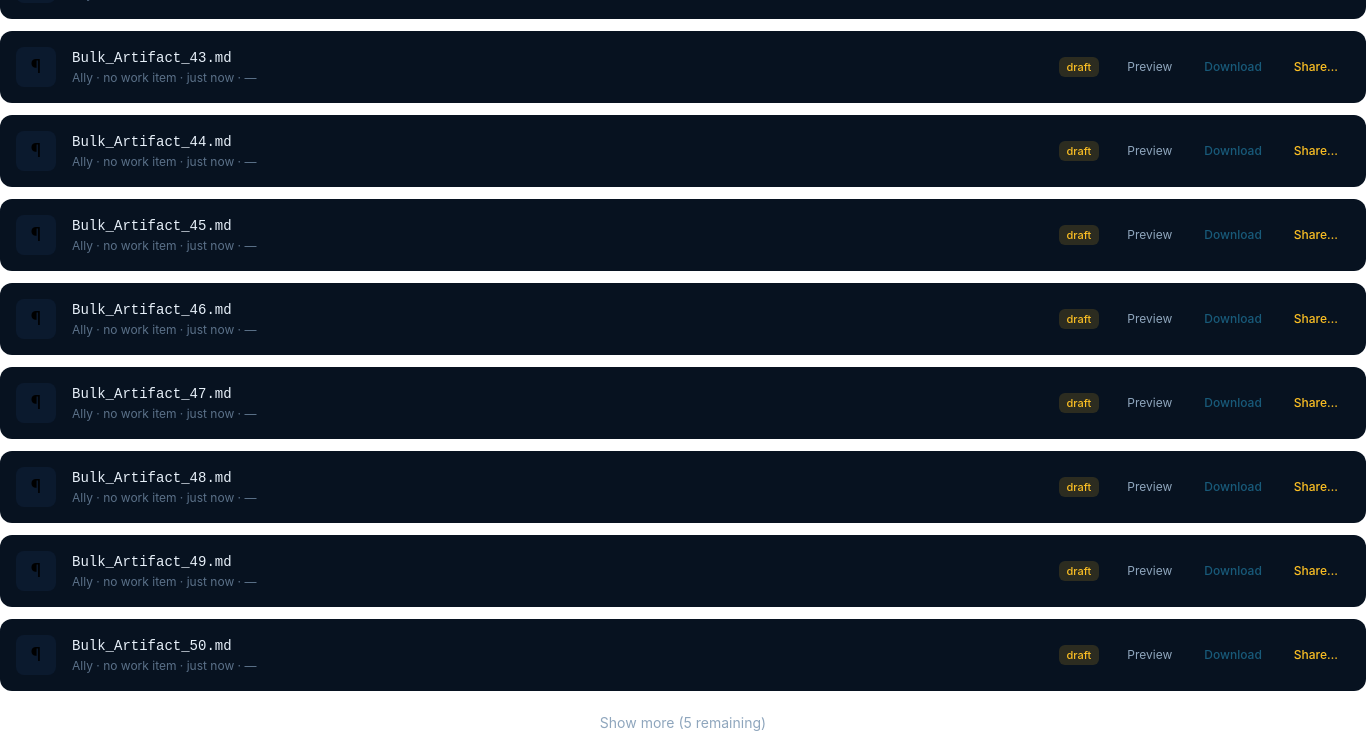
it: §15 large lists paginate › Artifacts caps at 50 with Show more
(page scrolled)
Expected: the text "Bulk_Artifact_50.md" is shown, [72, 638, 232, 654]
Expected: the text "Bulk_Artifact_51.md" is not shown
Click the button "Show more (5 remaining)".
click(683, 723)  # box [0, 703, 1365, 742]
(page scrolled)
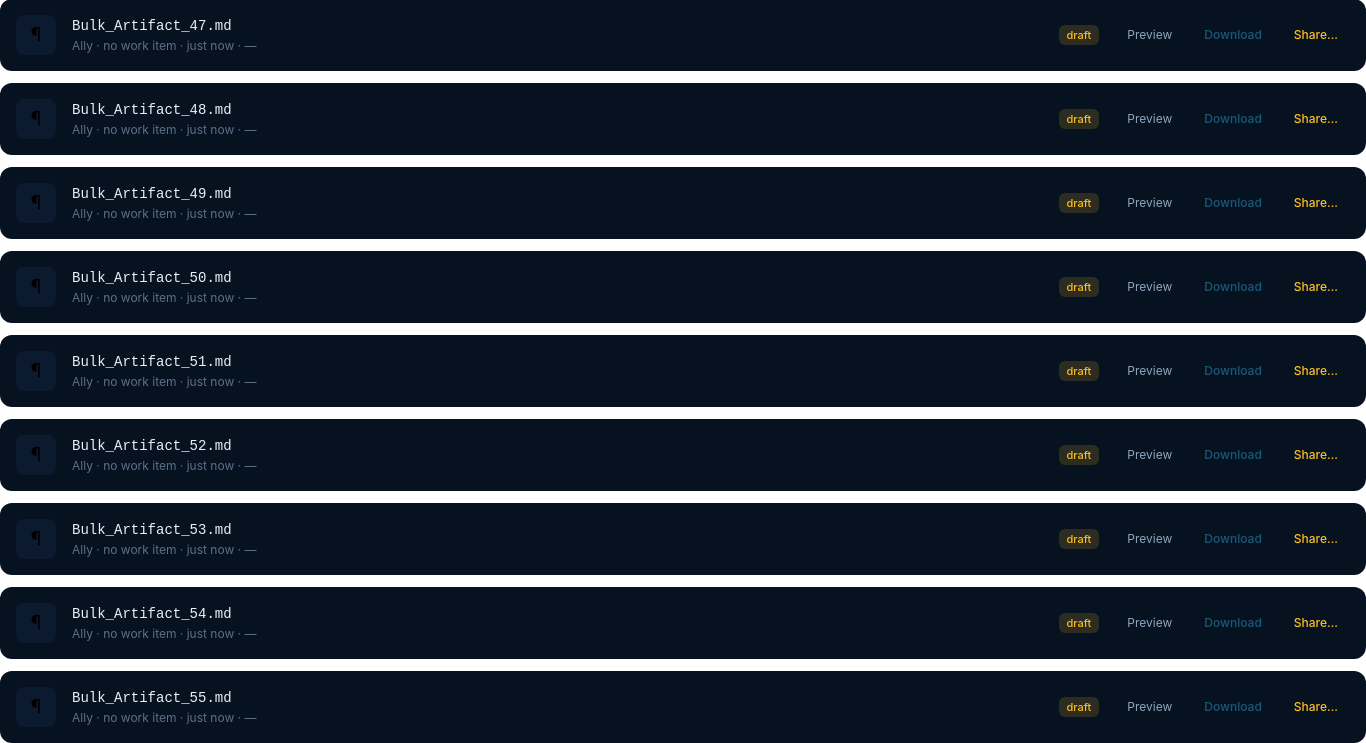
Expected: the text "Bulk_Artifact_55.md" is shown, [72, 690, 232, 706]
